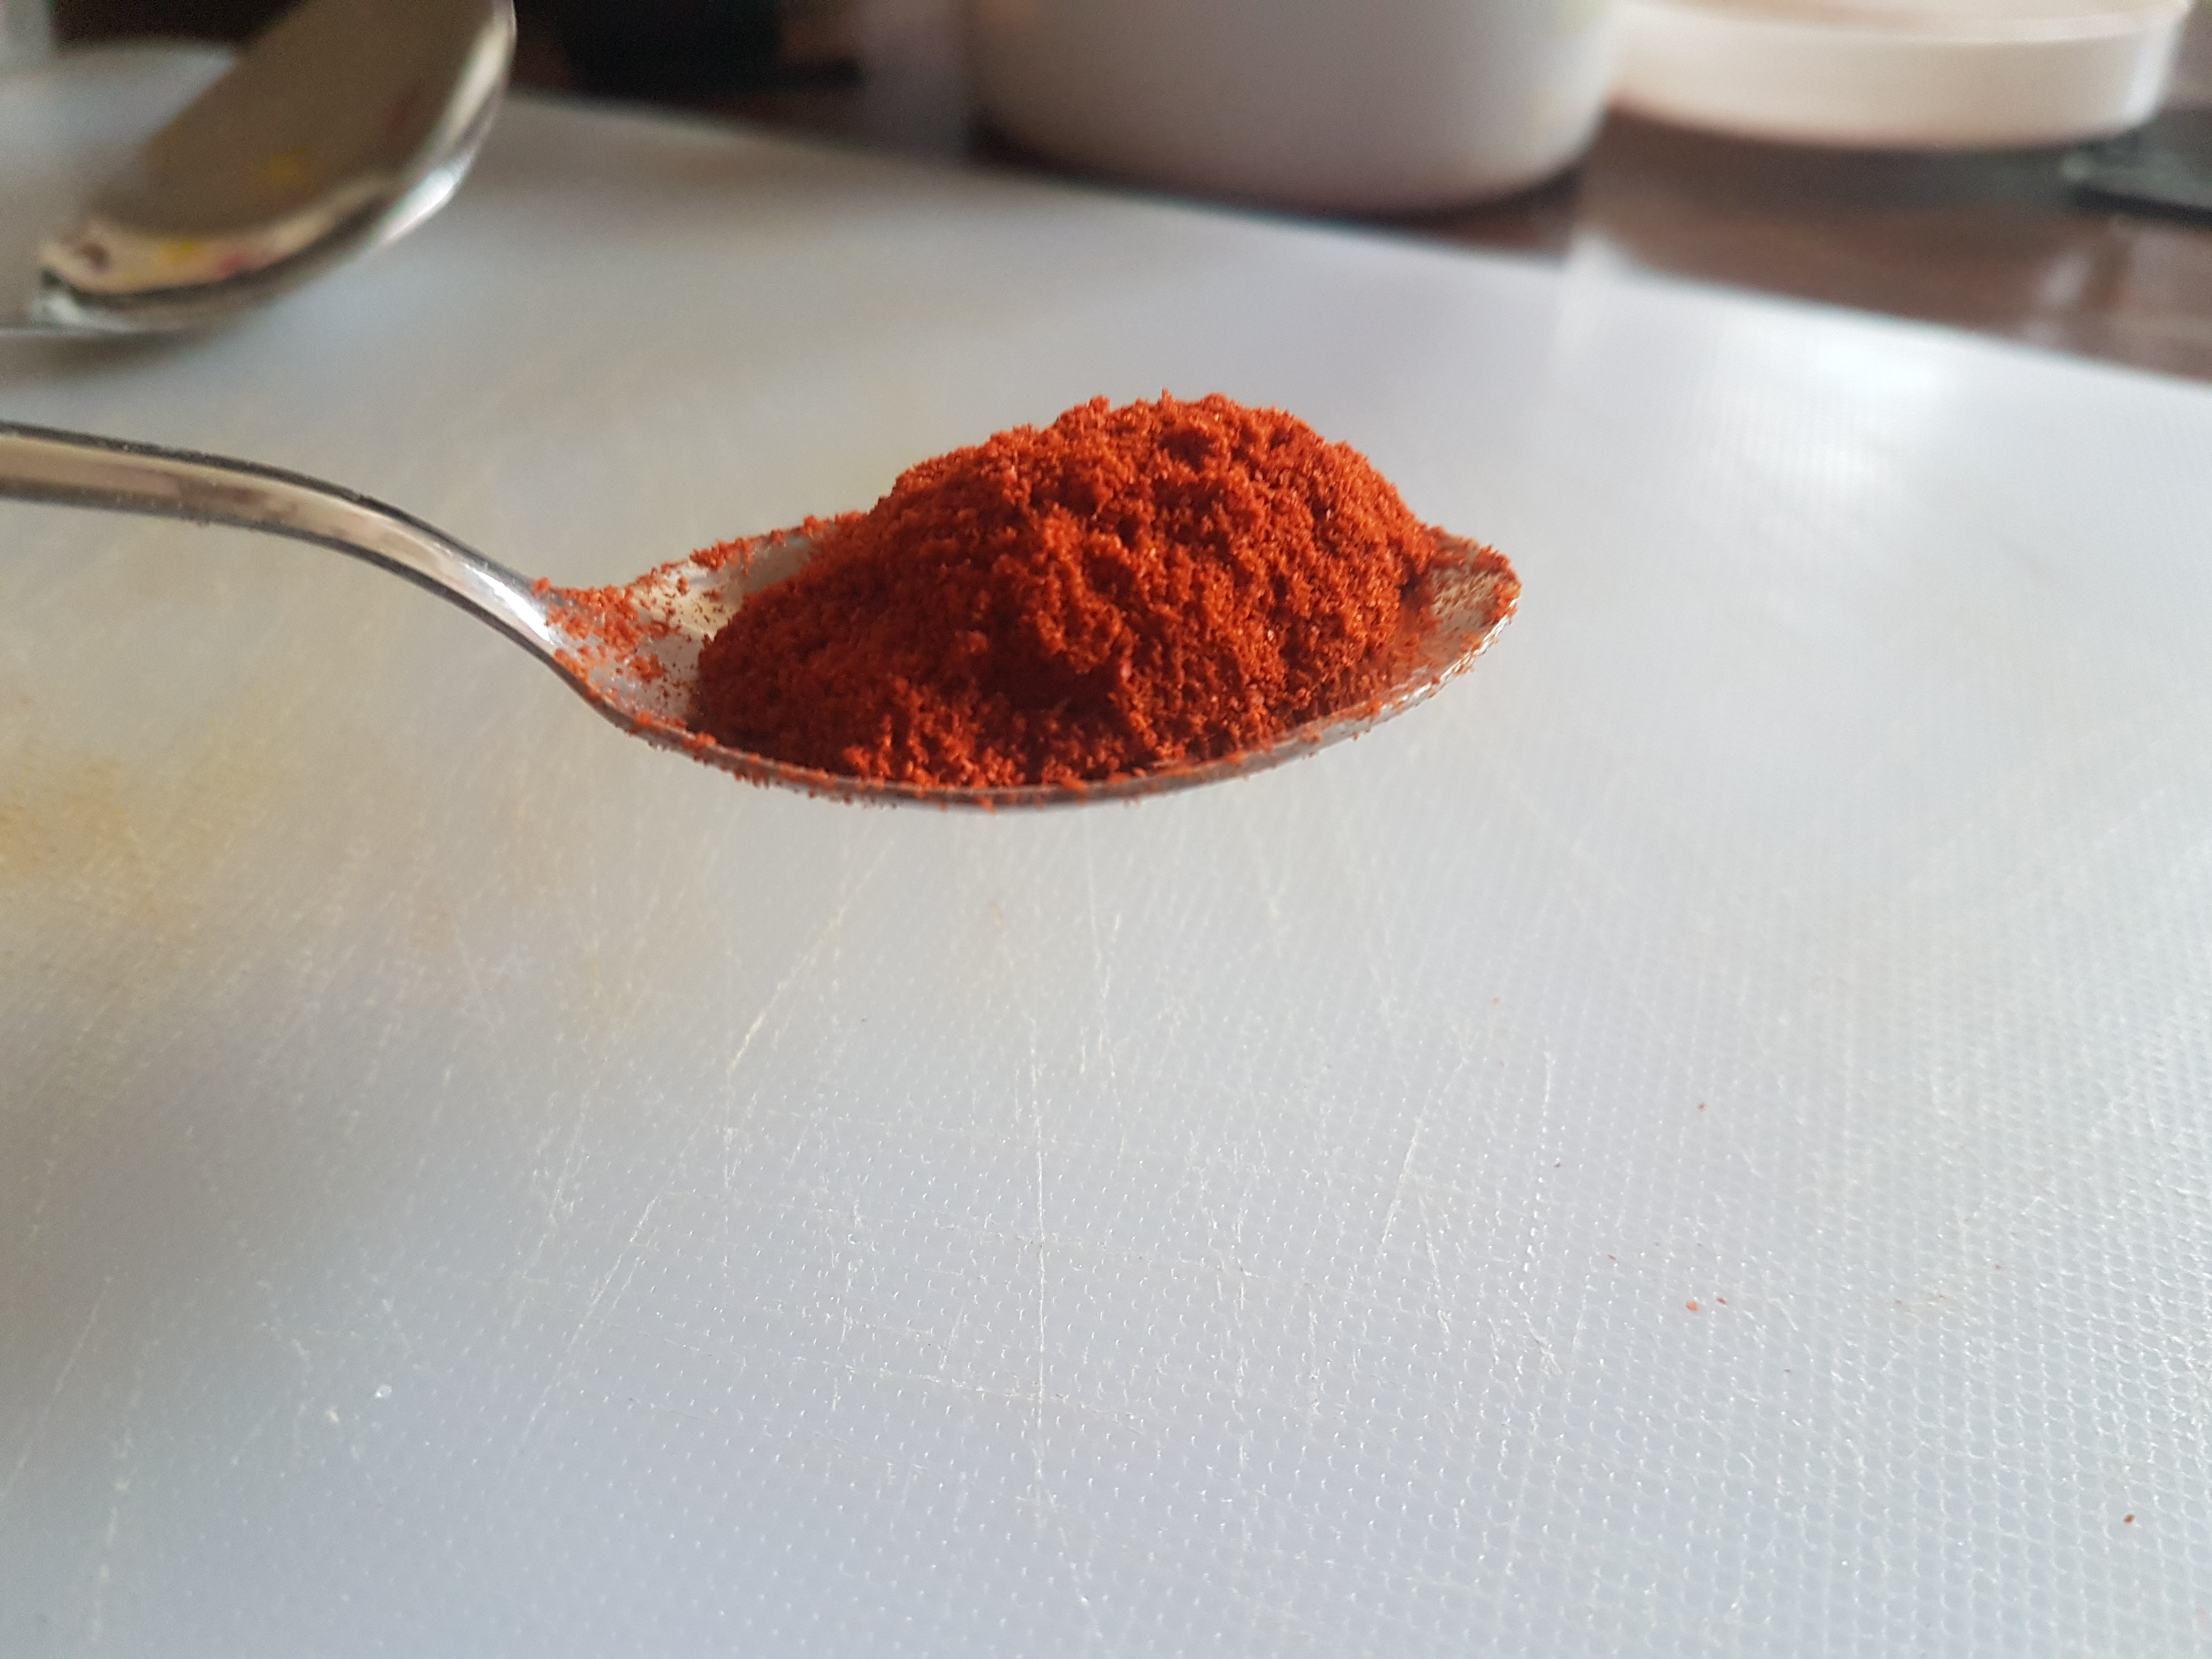Red chilli: (606, 338, 1557, 803)
